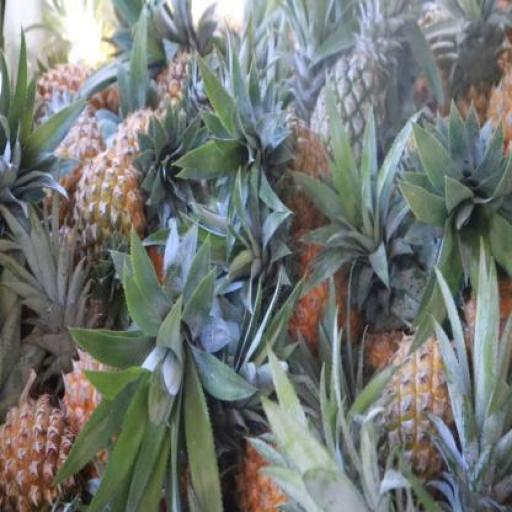------------------------------: (377, 332, 461, 484), (76, 156, 143, 288)
Pineapple - v8 v1: (0, 399, 79, 511)
